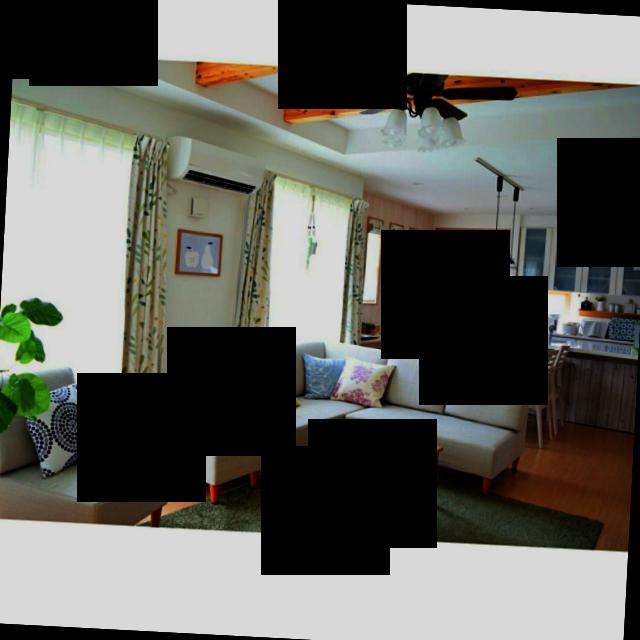natural desk: (275, 422, 448, 540)
natural sofa: (218, 329, 534, 442)
